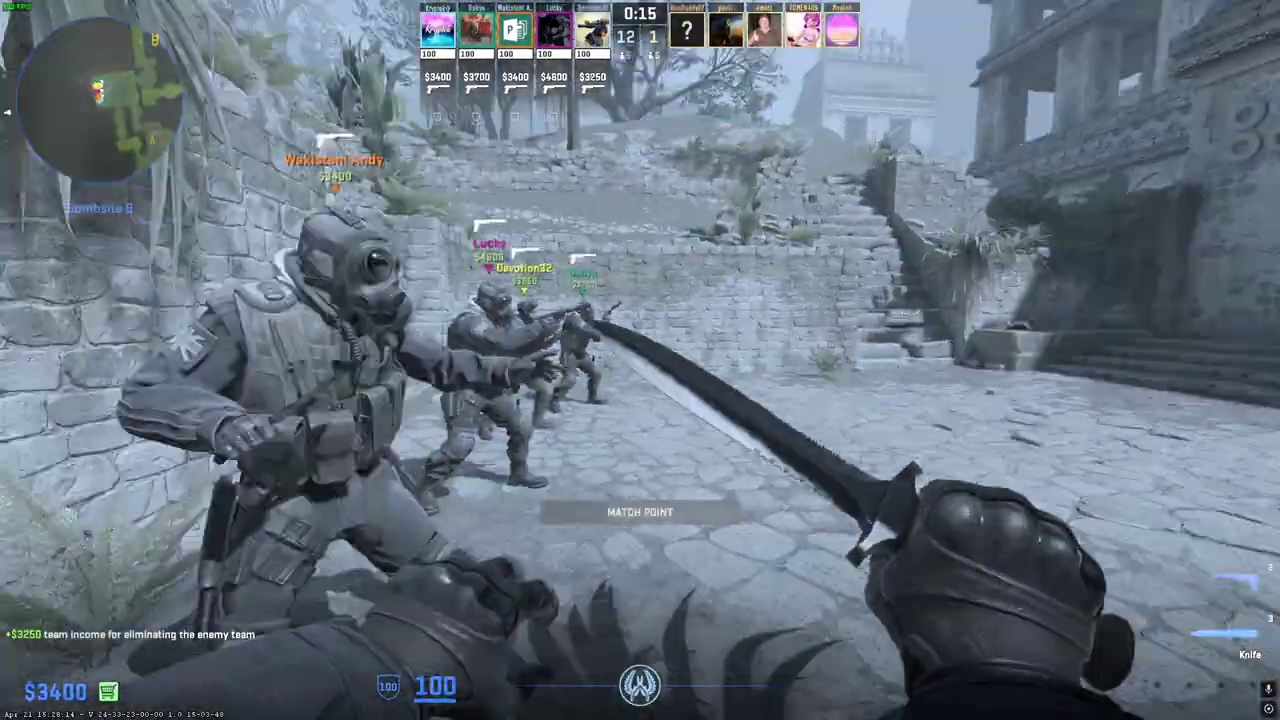CT: (150, 206, 436, 642), (416, 281, 548, 506), (513, 297, 557, 430), (554, 302, 607, 408)
